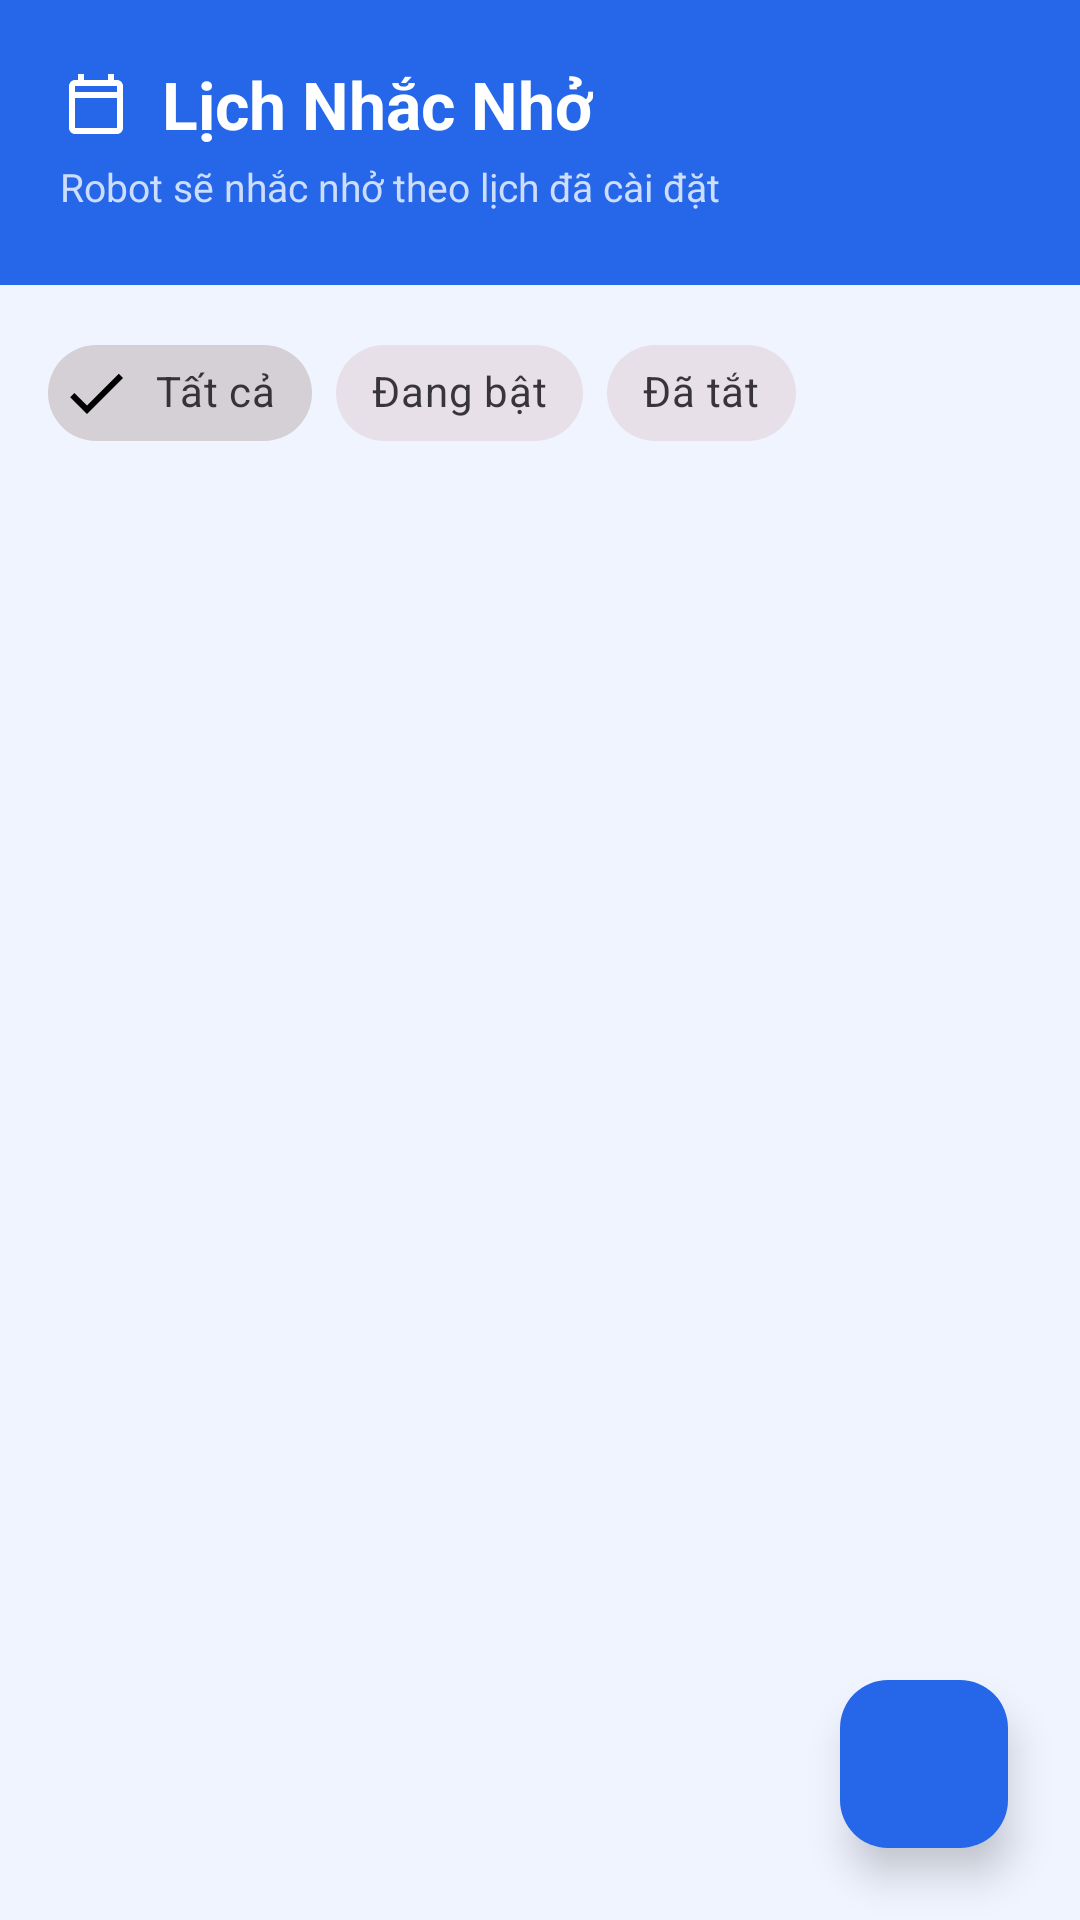

Icons on this 1080*1920 Android screen, each with its box as region(x1, y1, x2, y2):
calendar: region(69, 74, 123, 134)
